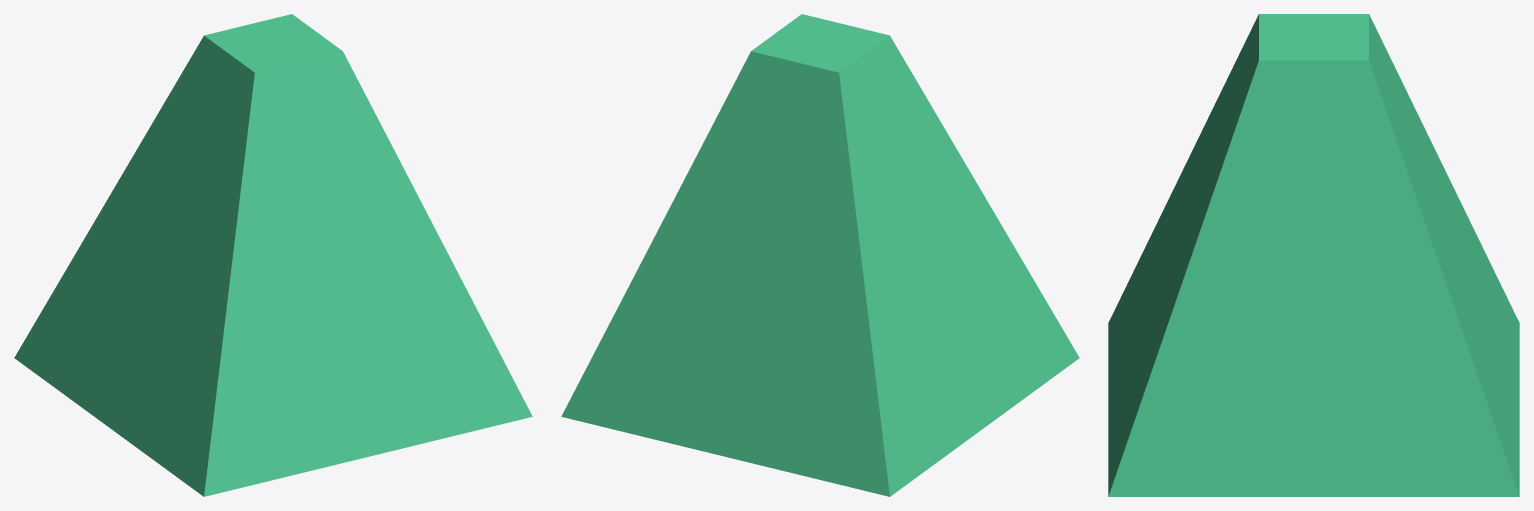
Rendered from camera.fbx.
The picture shows the model from 3 angles, left to right: view 1: azimuth 30°, elevation 25°; view 2: azimuth 150°, elevation 25°; view 3: azimuth 270°, elevation 25°; orthographic projection. The views are drawn at different scales.
Visible parts, largest first — view 1: Cube; view 2: Cube; view 3: Cube.
Part boxes in pixels (x1,y1,x2,y2): Cube: [14, 14, 532, 496]; Cube: [561, 14, 1079, 496]; Cube: [1108, 14, 1519, 496].
Bounding box in the file's own units: 2 × 2 × 2.
